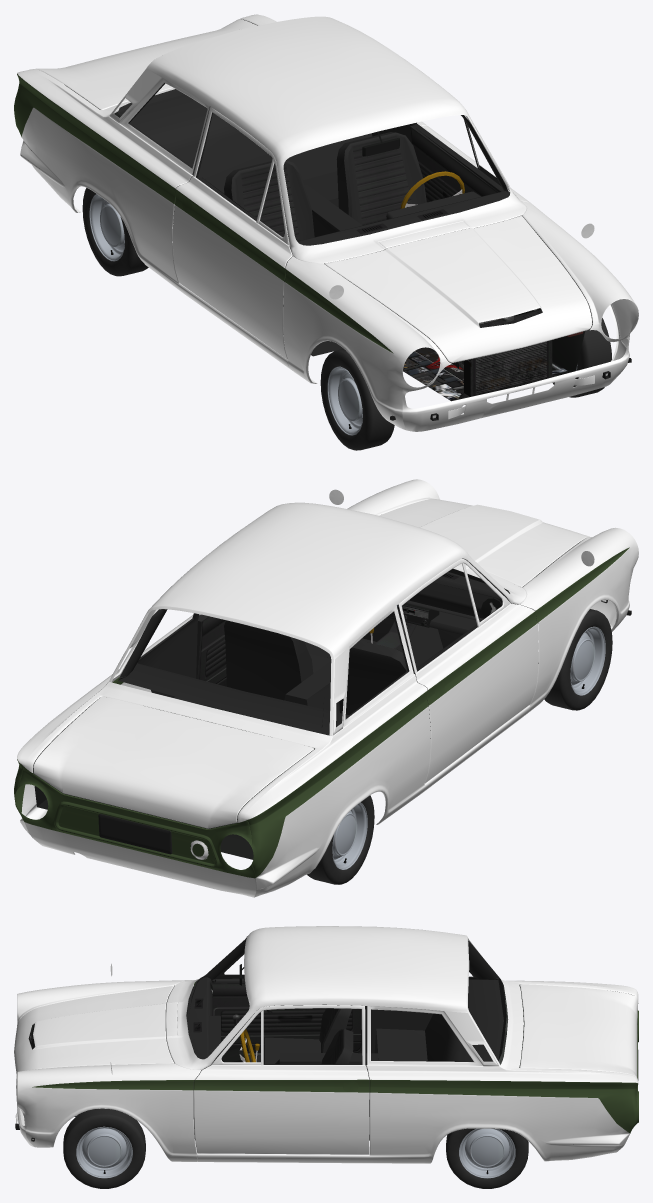
Rendered from car4.glb.
3 renders of one model, top to bottom at view 1: azimuth 30°, elevation 25°; view 2: azimuth 150°, elevation 25°; view 3: azimuth 270°, elevation 25°, orthographic. The views are drawn at different scales.
Visible parts, largest first — view 1: Cortina:lod10, Cortina:lod13, Cortina:lod15, Cortina:lod0, Cortina:lod11; view 2: Cortina:lod10, Cortina:lod13, Cortina:lod15, Cortina:lod0, Cortina:lod11, Cortina:lod12; view 3: Cortina:lod10, Cortina:lod13, Cortina:lod15, Cortina:lod0, Cortina:lod11.
Part boxes in pixels (x1=…): Cortina:lod10: x1=17, y1=14, x2=638, y2=431; Cortina:lod13: x1=64, y1=19, x2=592, y2=401; Cortina:lod15: x1=14, y1=74, x2=509, y2=353; Cortina:lod0: x1=82, y1=188, x2=611, y2=450; Cortina:lod11: x1=89, y1=194, x2=577, y2=435; Cortina:lod10: x1=17, y1=479, x2=638, y2=897; Cortina:lod13: x1=33, y1=541, x2=580, y2=859; Cortina:lod15: x1=14, y1=547, x2=629, y2=878; Cortina:lod0: x1=307, y1=609, x2=612, y2=884; Cortina:lod11: x1=332, y1=626, x2=605, y2=869; Cortina:lod12: x1=98, y1=814, x2=172, y2=854; Cortina:lod10: x1=14, y1=926, x2=638, y2=1163; Cortina:lod13: x1=28, y1=936, x2=631, y2=1140; Cortina:lod15: x1=32, y1=982, x2=638, y2=1133; Cortina:lod0: x1=63, y1=1108, x2=528, y2=1188; Cortina:lod11: x1=76, y1=1059, x2=515, y2=1178.
Size of what is drawn, in the model's own units: 0.0161 by 0.0136 by 0.0408.
Materials: 8 (3 with a texture image).
